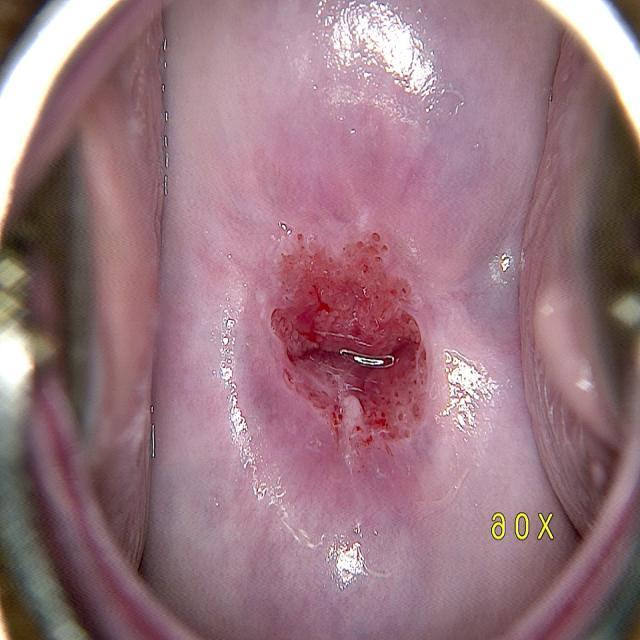cervical_lesion: (184, 0, 524, 622)
